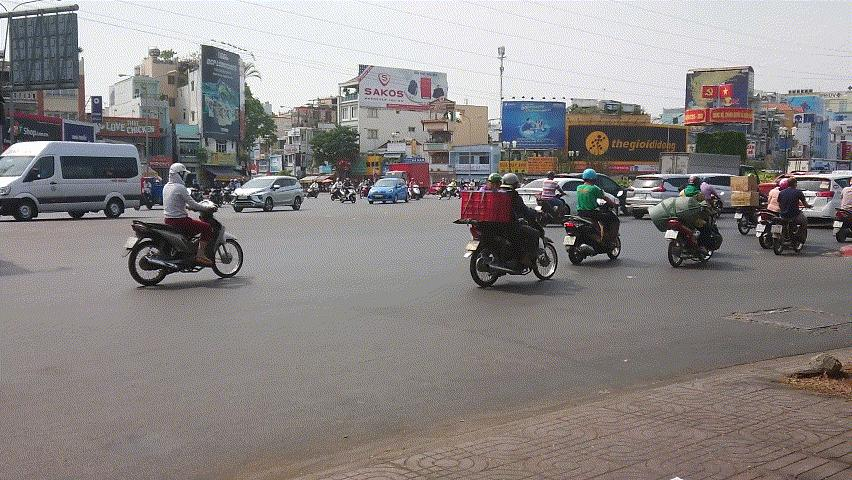driver: (122, 162, 244, 285), (451, 171, 559, 287), (651, 176, 725, 268), (562, 169, 625, 266), (771, 177, 815, 256)
